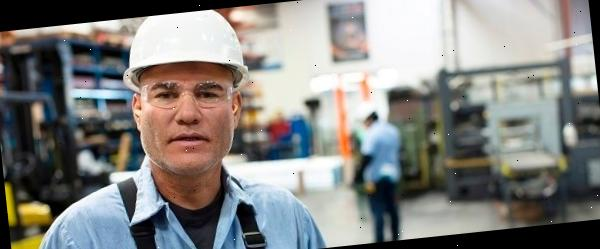helmet: (117, 5, 248, 98)
wear: (28, 174, 326, 249)
